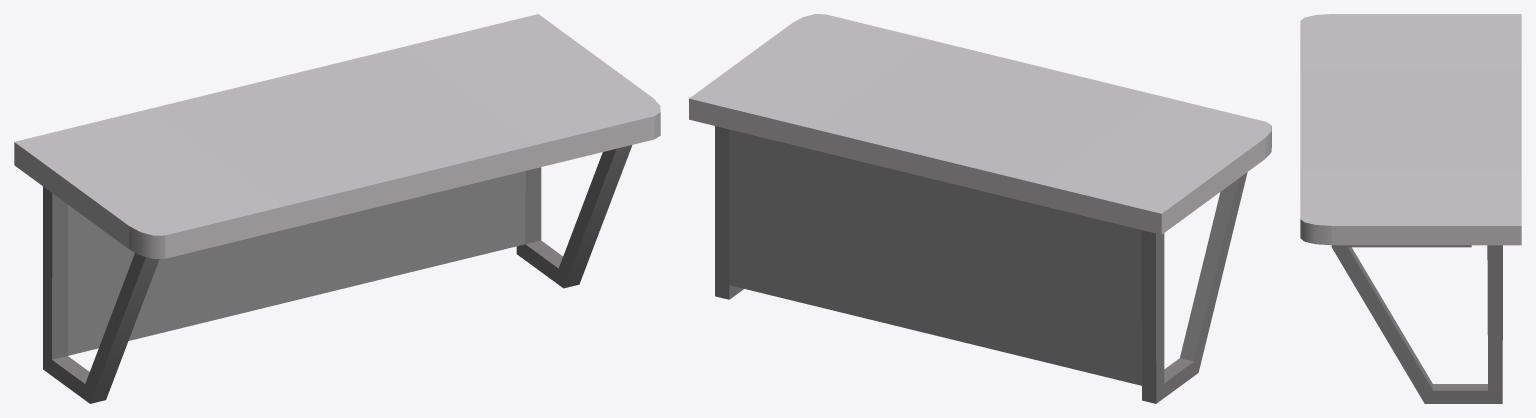
Rendered from labTable.fbx.
3 views of the same model, side by side, from view 1: azimuth 30°, elevation 25°; view 2: azimuth 150°, elevation 25°; view 3: azimuth 270°, elevation 25° (orthographic). The views are drawn at different scales.
Parts seen in each view (by area): view 1: table; view 2: table; view 3: table.
Part boxes in pixels (x1=…): table: x1=14, y1=14, x2=660, y2=403; table: x1=689, y1=14, x2=1271, y2=403; table: x1=1300, y1=14, x2=1521, y2=403.
Bounding box in the file's own units: 17309 × 7053 × 7644.
